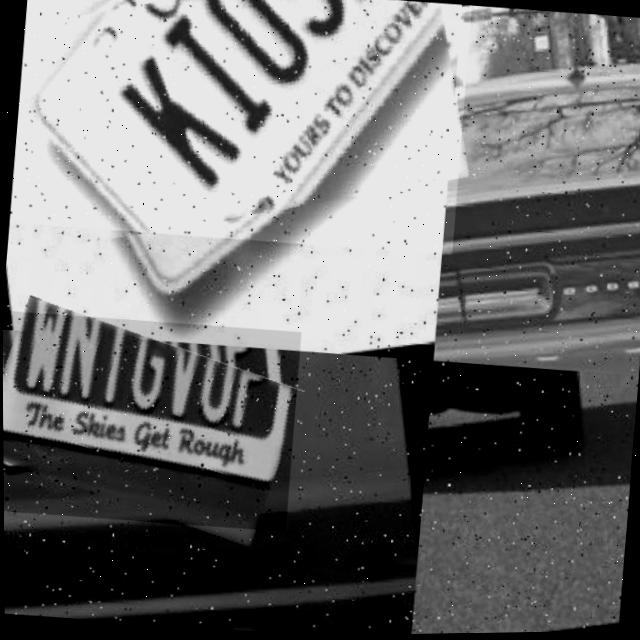LicensePlate: (7, 0, 473, 261), (2, 307, 301, 535)
